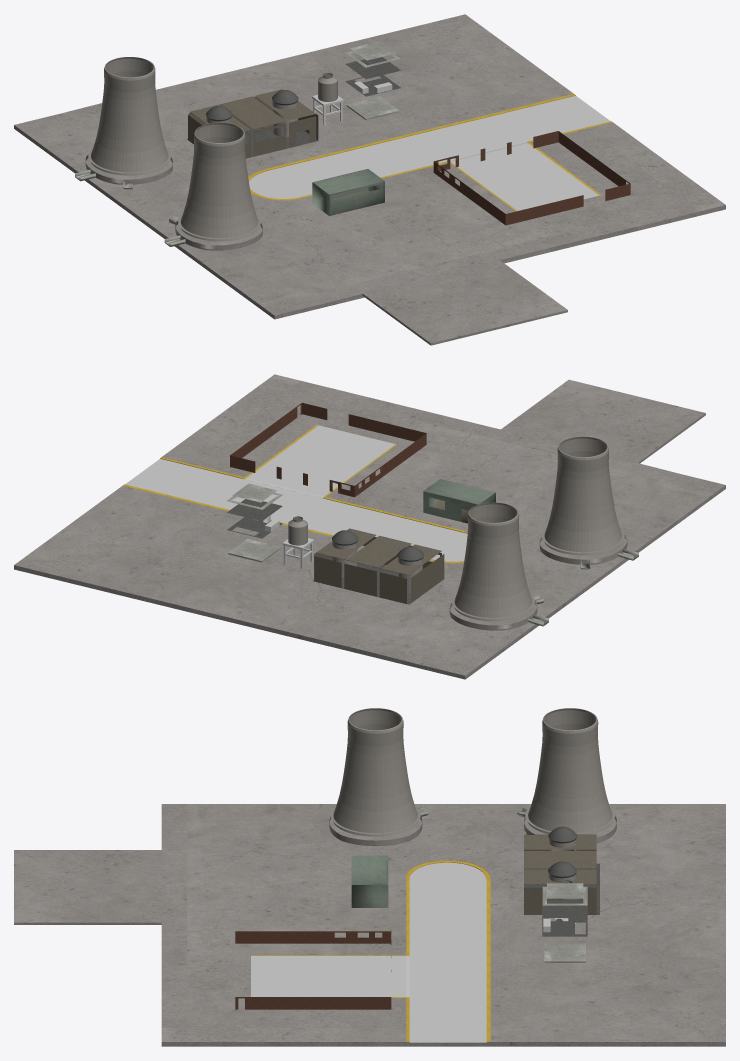
Rendered from material_mate.fbx.
The picture shows the model from 3 angles, top to bottom: view 1: azimuth 30°, elevation 25°; view 2: azimuth 150°, elevation 25°; view 3: azimuth 270°, elevation 25°; orthographic projection. The views are drawn at different scales.
Visible parts, largest first — view 1: matecemento, mateasfalto, mateconcretotorre, mateconcreladrillo, matebloqueladrillo, mateconcreverde, mateconcretogris, matesueloclaro, mateacera, matemadera; view 2: matecemento, mateconcretotorre, mateasfalto, mateconcreladrillo, matebloqueladrillo, mateconcretogris, matesueloclaro, mateconcreverde, mateacera, matemadera; view 3: matecemento, mateasfalto, mateconcretotorre, matebloqueladrillo, mateconcreladrillo, mateconcretogris, mateconcreverde, matesueloclaro, mateacera.
Boxes of the visible parts, box(x1,y1,x2,y2) form: matecemento: box(14, 14, 725, 345); mateasfalto: box(249, 95, 610, 210); mateconcretotorre: box(88, 57, 337, 241); mateconcreladrillo: box(188, 89, 369, 200); matebloqueladrillo: box(433, 131, 630, 225); mateconcreverde: box(312, 169, 384, 215); mateconcretogris: box(187, 57, 400, 157); matesueloclaro: box(75, 41, 400, 246); mateacera: box(248, 94, 612, 211); matemadera: box(312, 81, 392, 125); matecemento: box(14, 374, 725, 679); mateconcretotorre: box(288, 436, 624, 621); mateasfalto: box(125, 425, 467, 561); mateconcreladrillo: box(314, 500, 468, 603); matebloqueladrillo: box(230, 402, 426, 497); mateconcretogris: box(227, 499, 423, 604); matesueloclaro: box(226, 483, 638, 626); mateconcreverde: box(423, 479, 495, 521); mateacera: box(123, 425, 467, 563); matemadera: box(252, 515, 314, 568); matecemento: box(14, 804, 725, 1046); mateasfalto: box(251, 862, 486, 1042); mateconcretotorre: box(330, 708, 615, 899); matebloqueladrillo: box(235, 931, 391, 1009); mateconcreladrillo: box(524, 834, 596, 914); mateconcretogris: box(524, 826, 599, 936); mateconcreverde: box(351, 855, 388, 907); matesueloclaro: box(418, 807, 587, 962); mateacera: box(251, 860, 490, 1041).
Size of the model in its own units: 54585 by 11738 by 67567.
